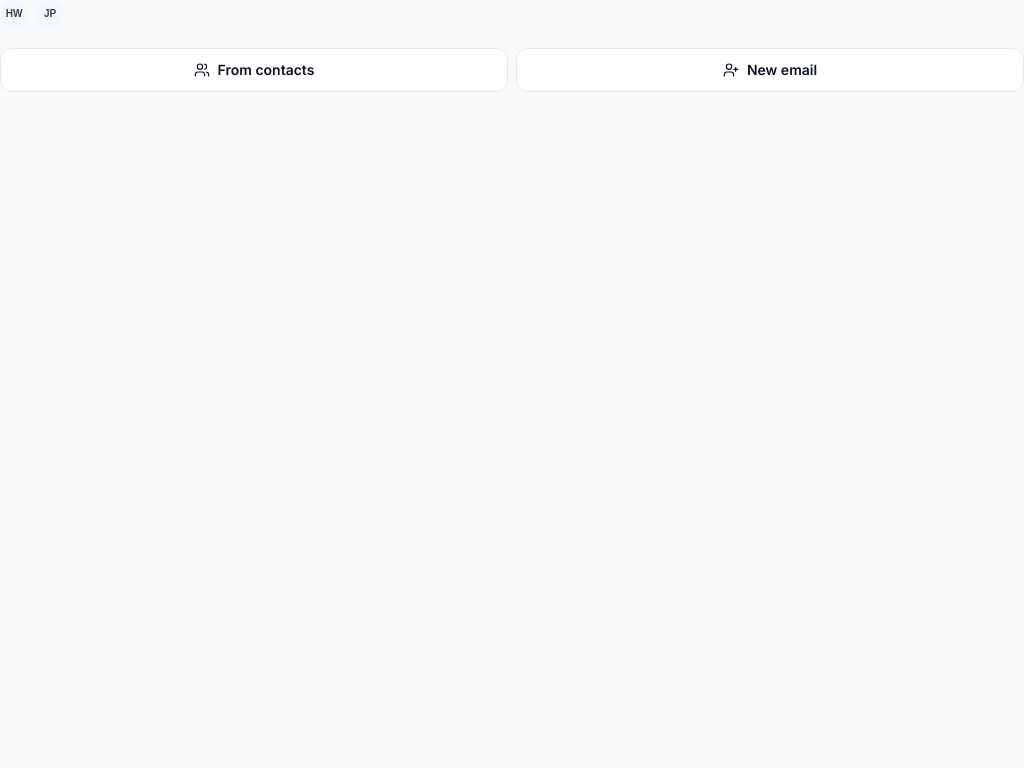
it: AddSignerPanel › closes the dialog on Cancel
Click the button "From contacts".
click(254, 70)  # box [0,48,508,92]
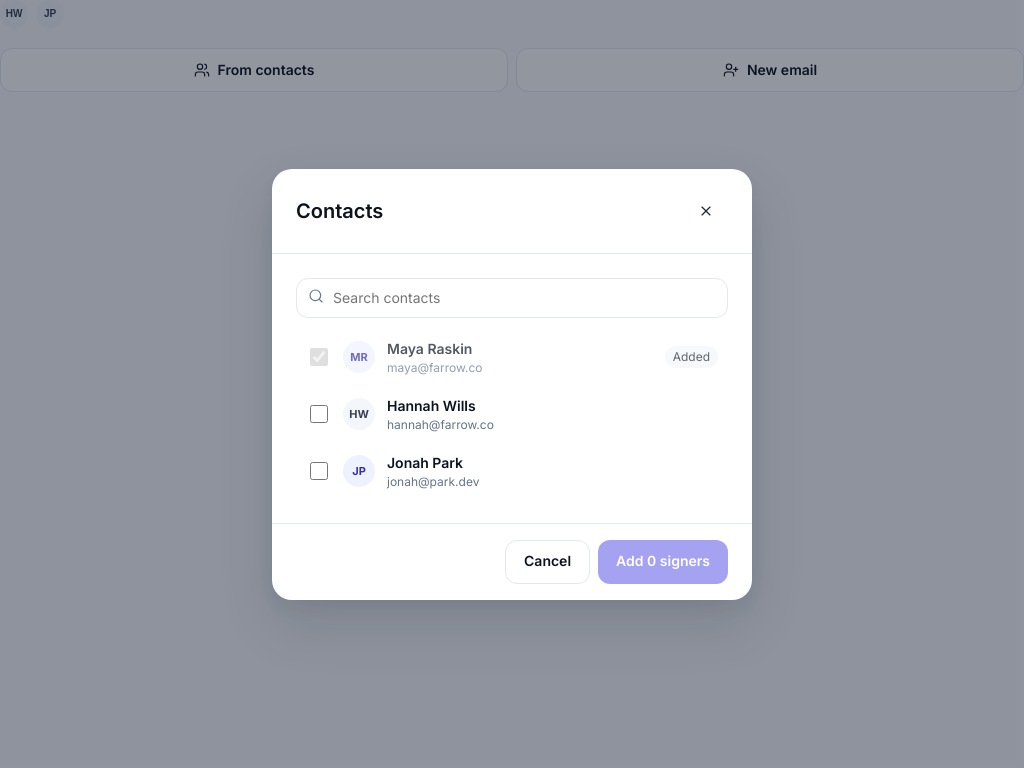
Click the button "Cancel".
click(548, 562)  # box [505,540,590,584]
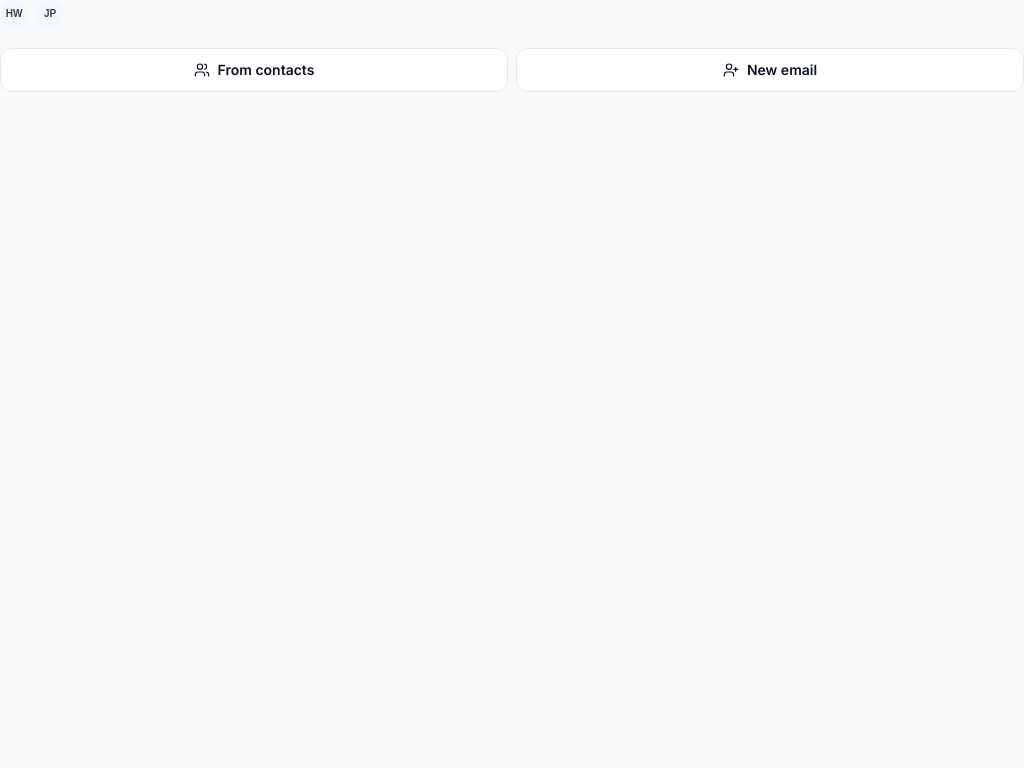
Now the dialog is gone
